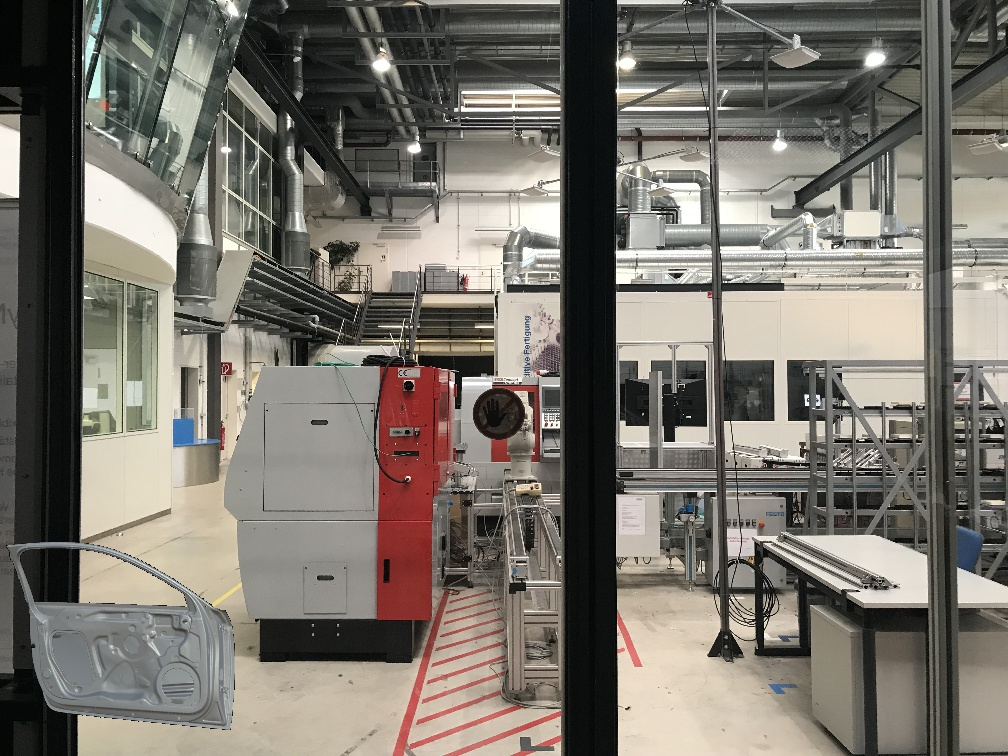car_door: (6, 542, 234, 729)
